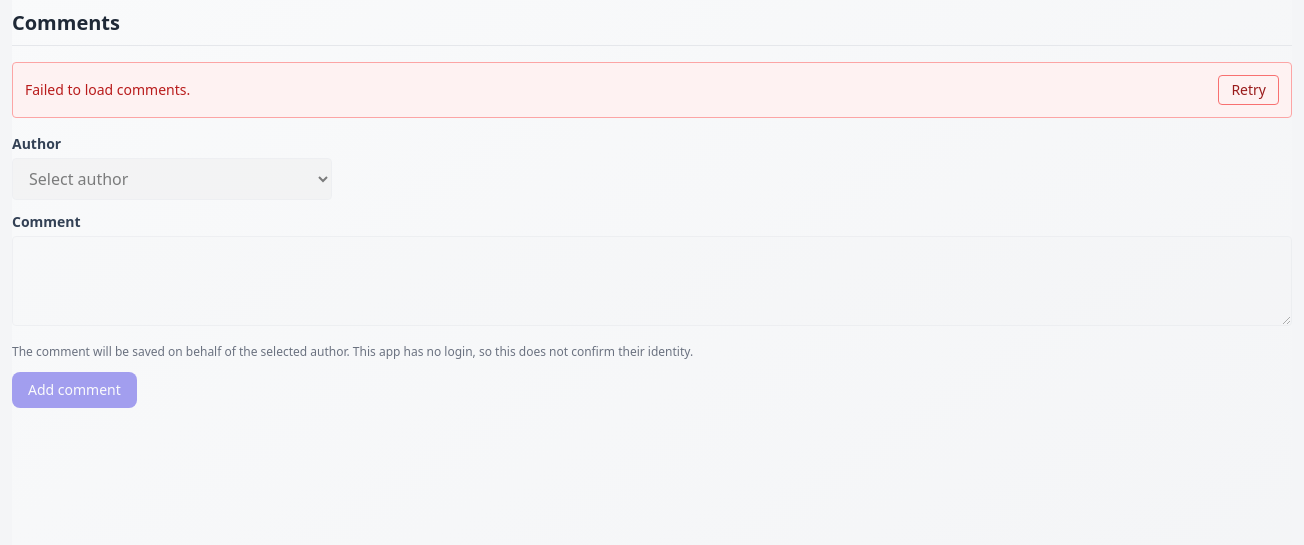
CommentsSection › fetching comments independently: shows a Retry button on failure, keeps the form blocked, and recovers on retry
Expected: the message "Failed to load comments. Retry" is shown, [12,62,1292,118]
Expected: the form with test id "add-comment-form" is shown, [12,134,1292,408]
Click the button with test id "comments-retry-btn" at [1249, 90], box [1218,75,1279,105]
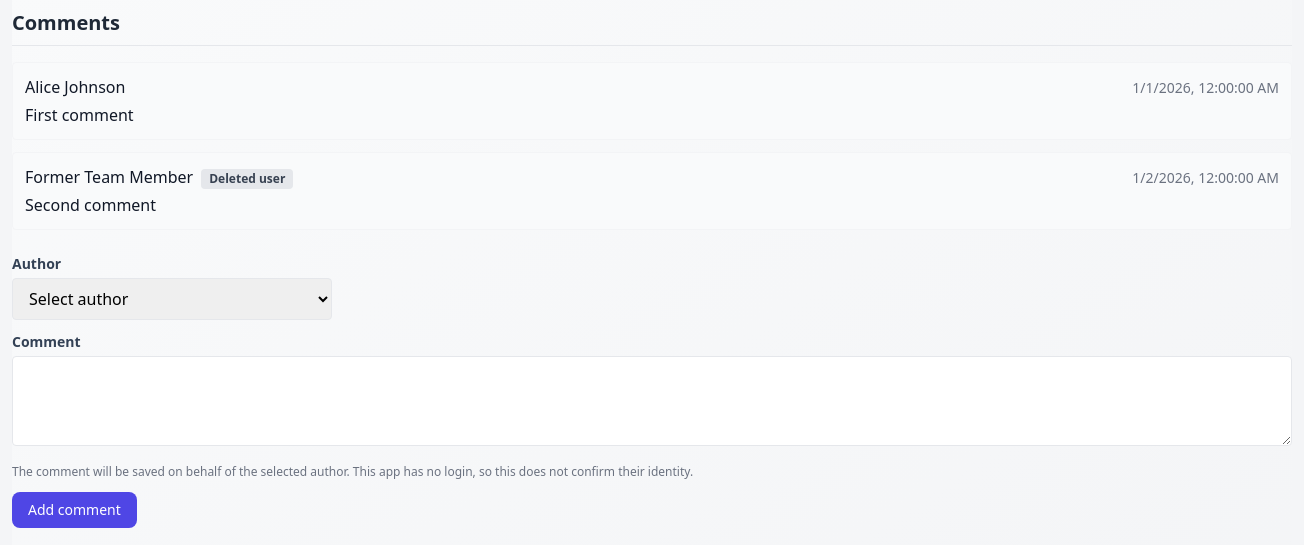
Expected: the list with test id "comments-list" is shown, [12,62,1292,230]
Expected: the button with test id "add-comment-btn" is enabled, [12,492,137,528]
